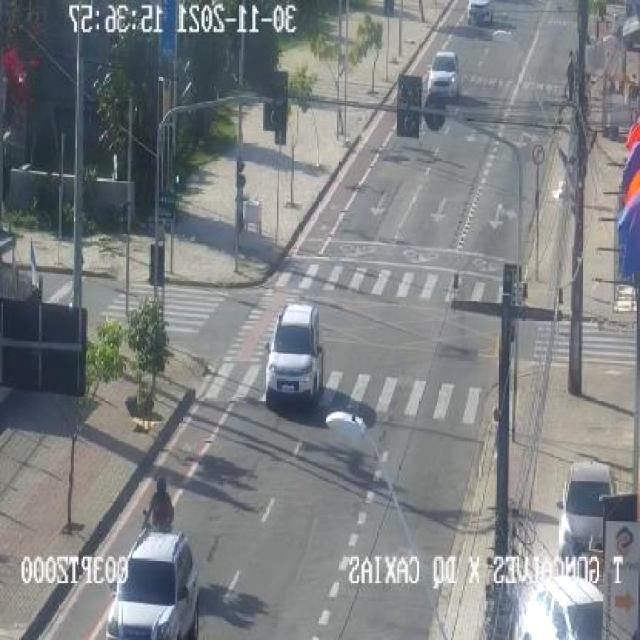Car: (107, 529, 196, 640), (264, 304, 324, 408), (557, 463, 615, 556), (521, 576, 603, 640), (426, 49, 461, 98)
